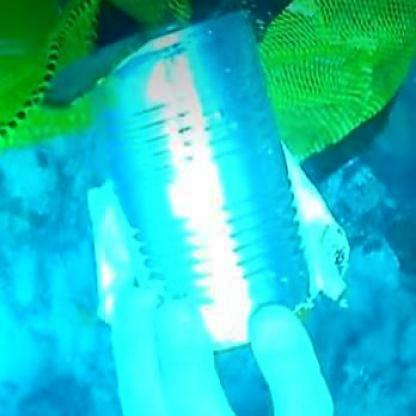can: (88, 18, 317, 344)
